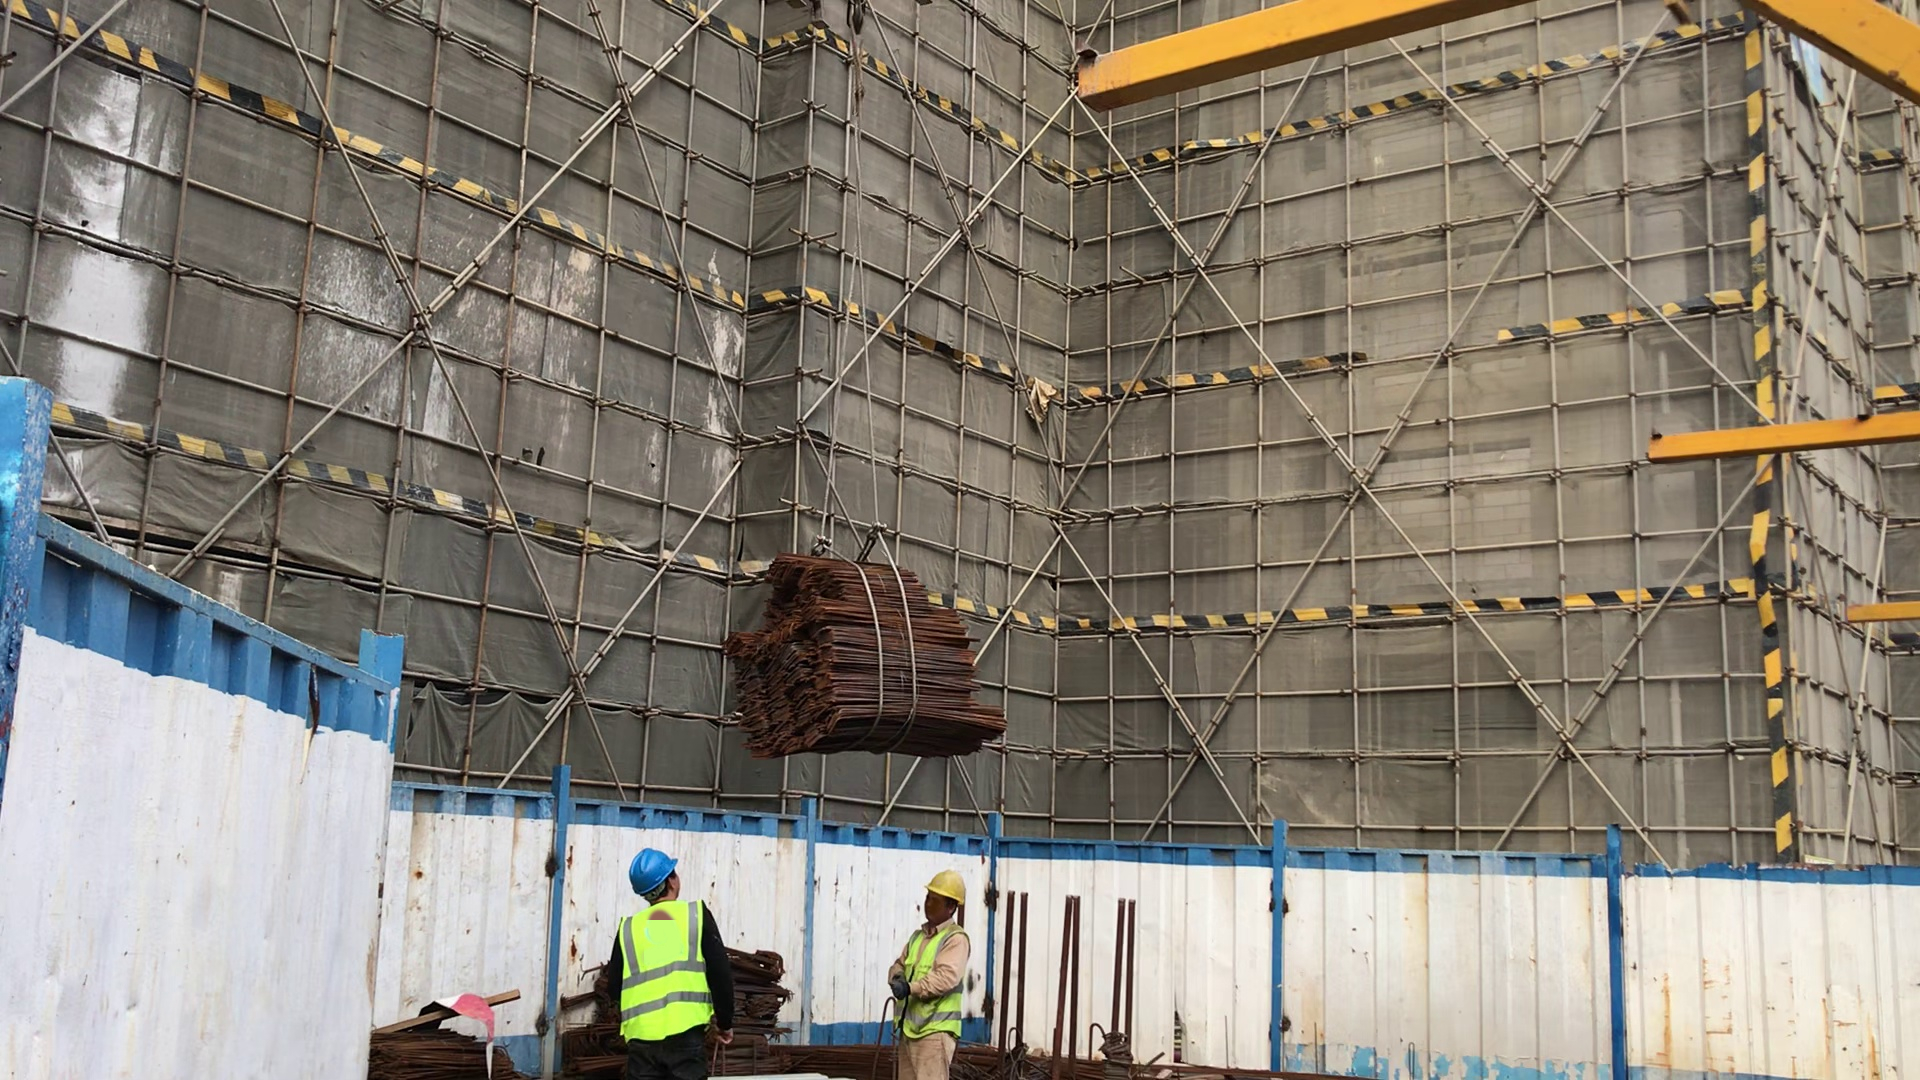helmet: (623, 848, 681, 897), (921, 869, 970, 905)
hook: (838, 1, 880, 52)
person: (597, 846, 742, 1080), (886, 868, 976, 1080)
vest: (618, 897, 713, 1041), (899, 917, 967, 1038)
